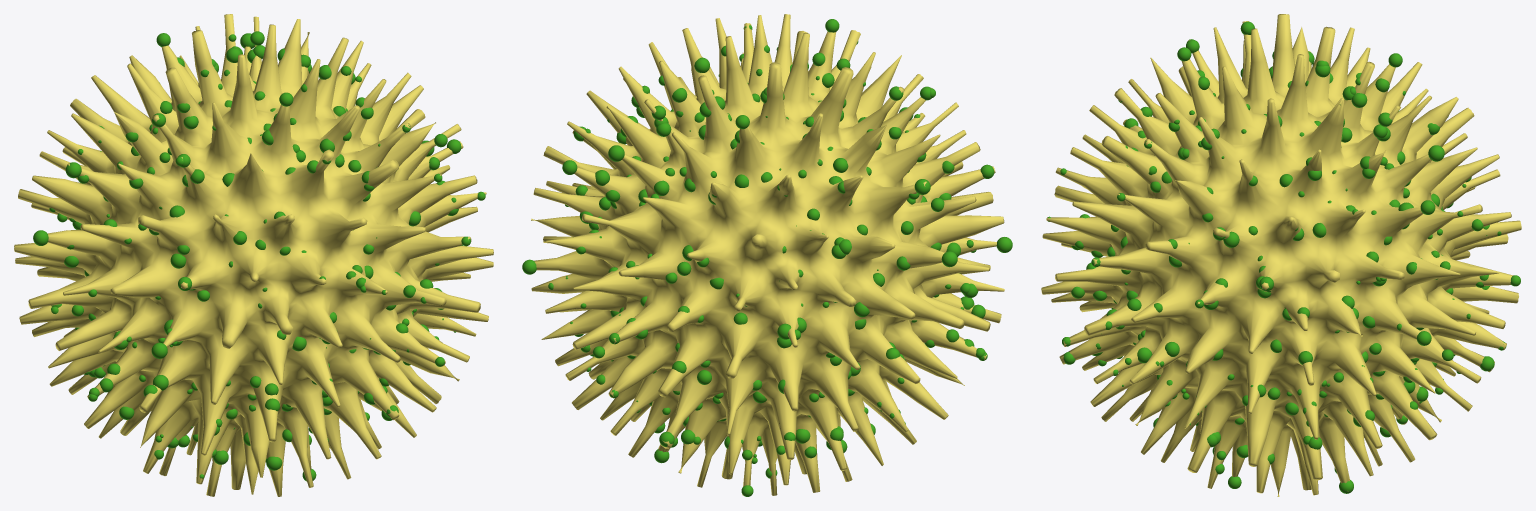
Rendered from espora.fbx.
3 renders of one model, left to right at view 1: azimuth 30°, elevation 25°; view 2: azimuth 150°, elevation 25°; view 3: azimuth 270°, elevation 25°, orthographic.
Visible parts, largest first — view 1: Icosphere; view 2: Icosphere; view 3: Icosphere.
Boxes of the visible parts, box(x1,y1,x2,y2) form: Icosphere: box(14, 14, 493, 496); Icosphere: box(531, 14, 1004, 495); Icosphere: box(1041, 14, 1521, 496).
Bounding box in the file's own units: 293 × 292 × 292.
